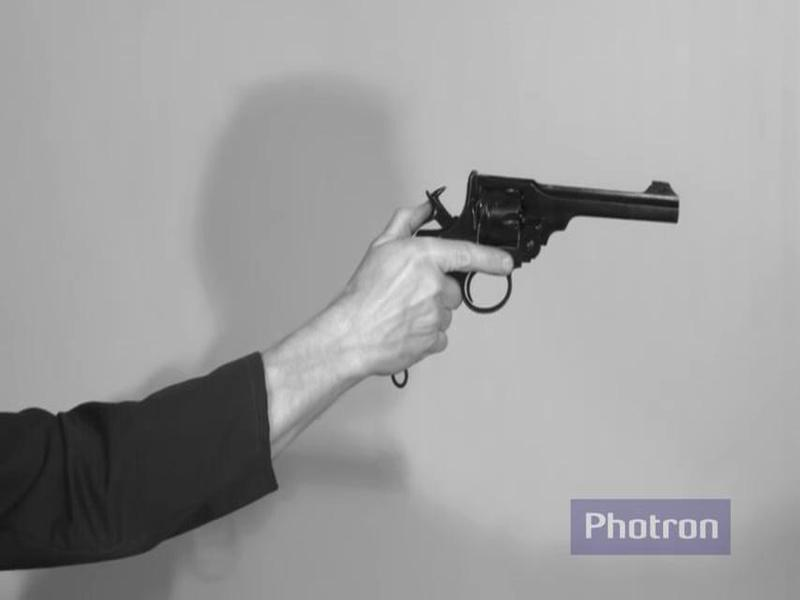Revolver: (349, 152, 708, 404)
